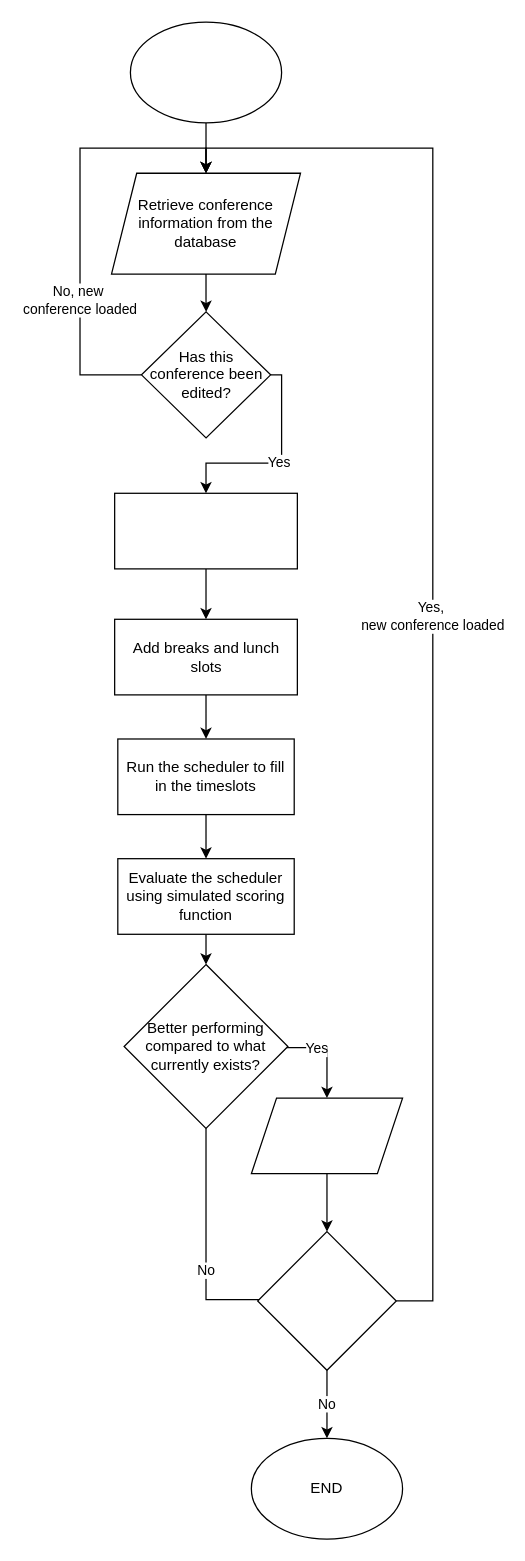
This 525x1561 diagram has some shape labels left out. Here are the shapes that lost their labels. From the top down, the box of each, then its label:
(129, 21, 282, 123): Start
(113, 492, 297, 569): Create timeslots for each break
(250, 1097, 403, 1174): Save the new schedule
(256, 1230, 396, 1370): Web application running?
